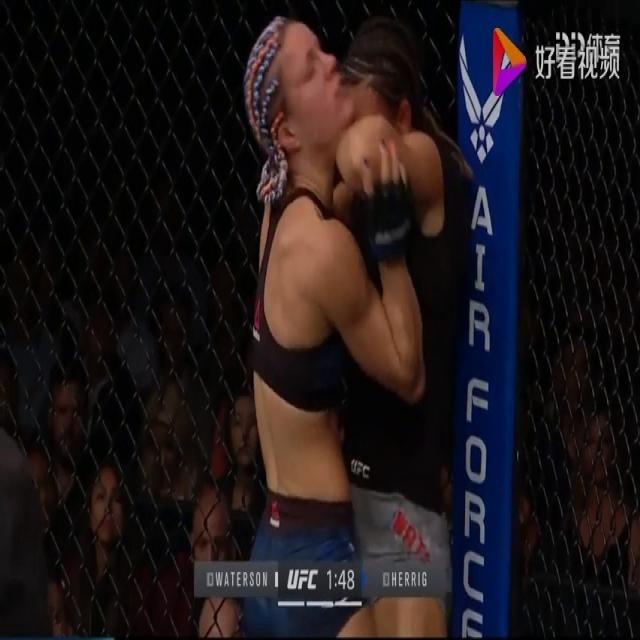fight: (235, 0, 490, 637)
